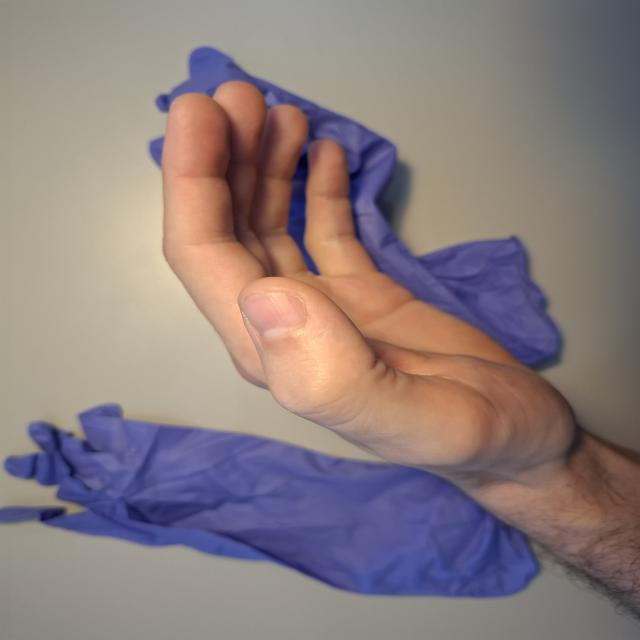glove_off: (154, 79, 595, 485)
